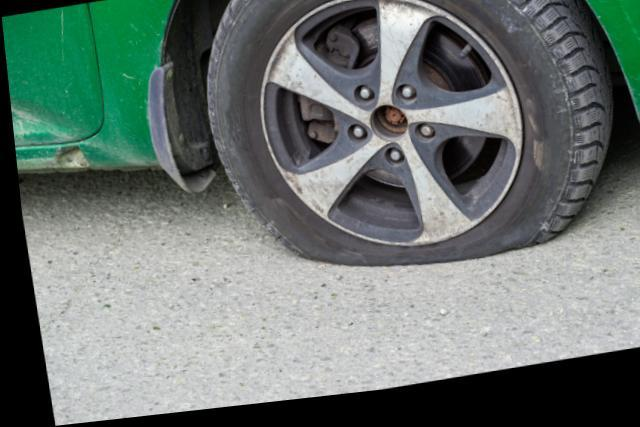scratch: (604, 0, 640, 81)
tire flat: (201, 0, 612, 277)
